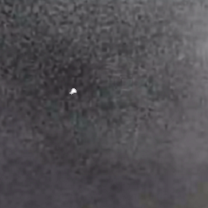Target: (68, 87, 78, 95)
